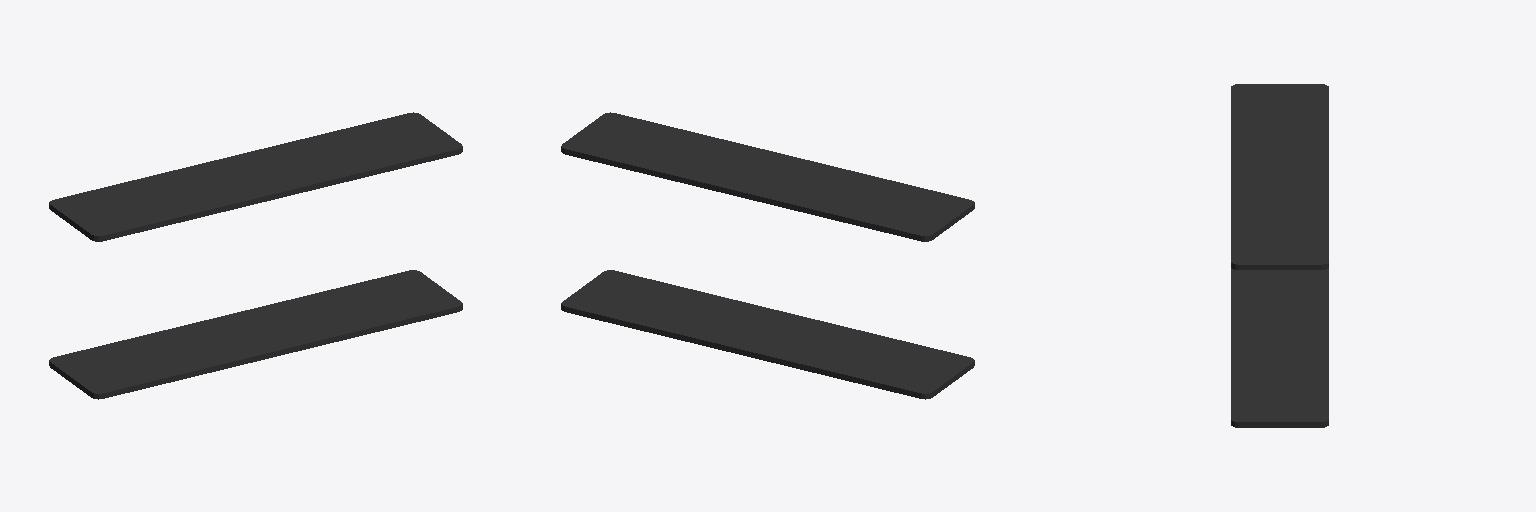
File: Waist_1_mesh_3.obj
The picture shows the model from 3 angles: view 1: azimuth 30°, elevation 25°; view 2: azimuth 150°, elevation 25°; view 3: azimuth 270°, elevation 25°; orthographic projection.
Bounding box in the file's own units: 0.104 × 0.0438 × 0.024.